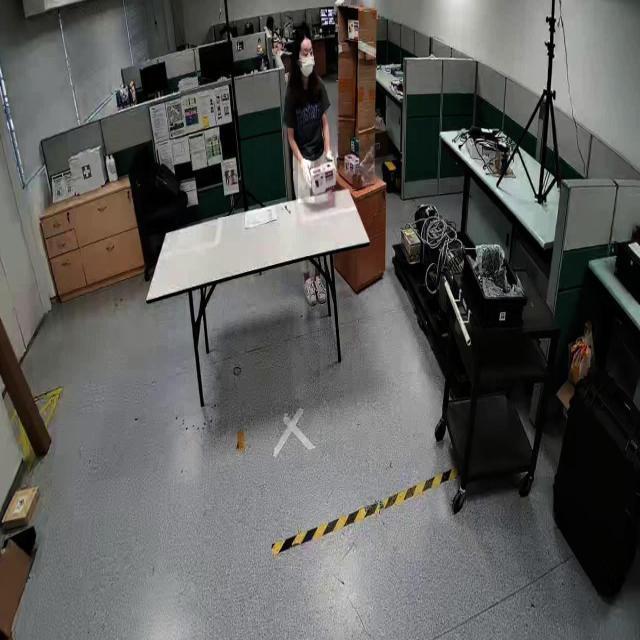face_mask: (296, 30, 318, 82)
hand_glove: (298, 150, 315, 204), (323, 147, 337, 173)
head_nohelmet: (290, 23, 312, 41)
person: (284, 21, 336, 198)
shoes: (301, 272, 317, 308), (312, 272, 328, 304)
